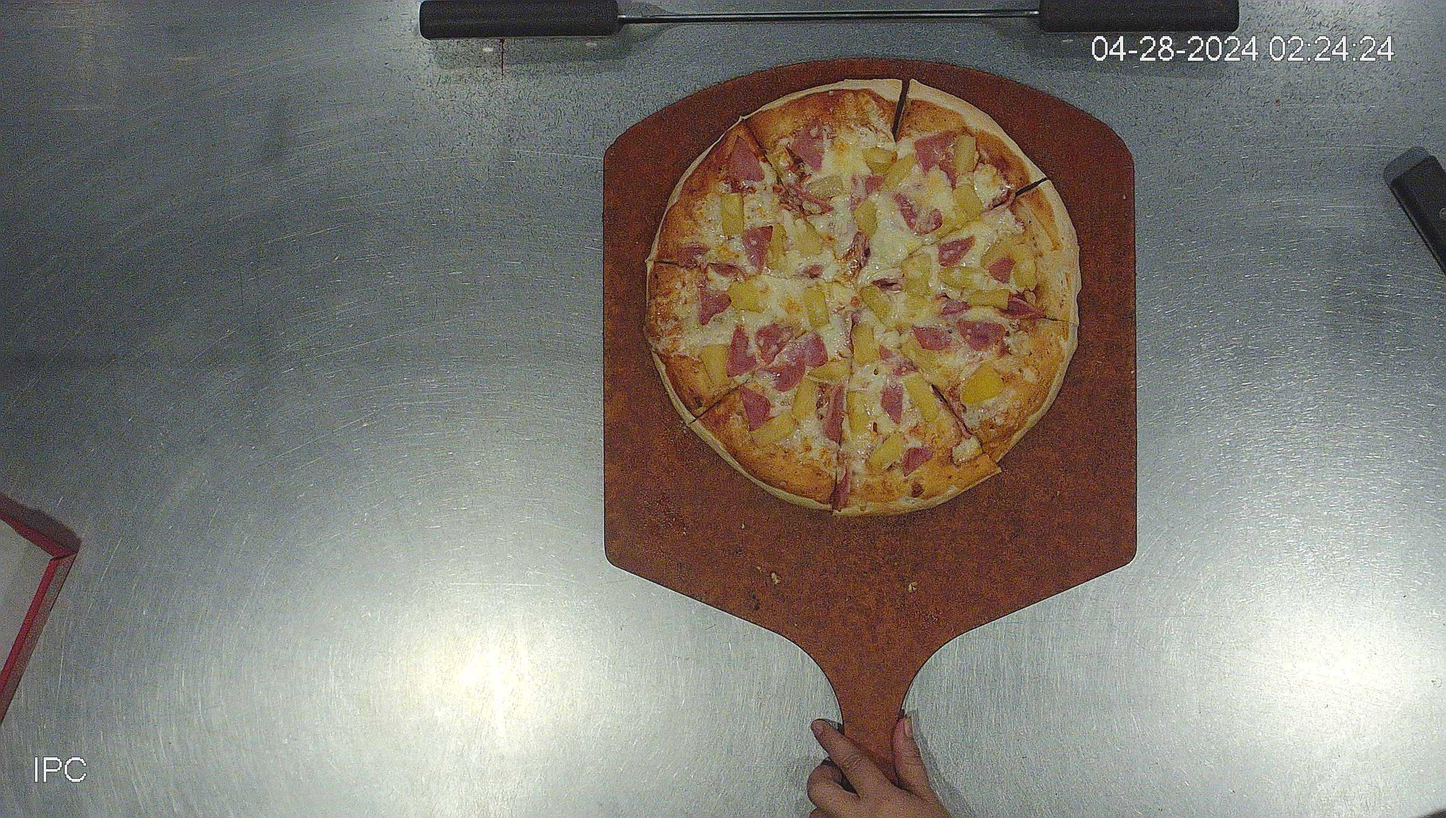manager_choice: (641, 77, 1083, 517)
